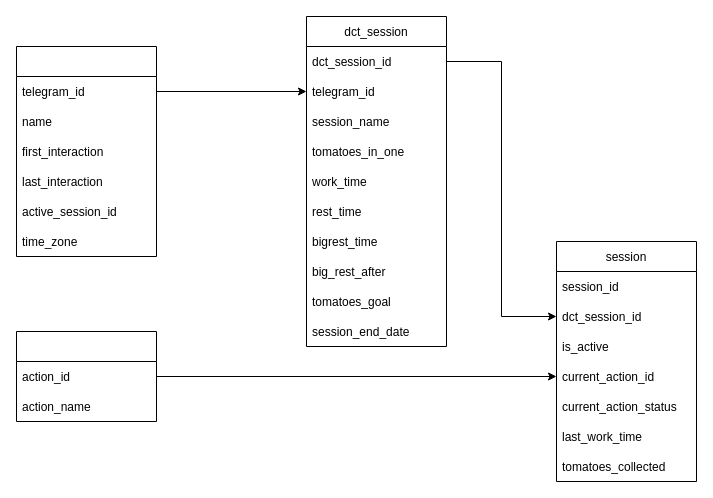
Image size: 713x498. Some labels were removed from this diagram. Each missing label, with the box of its shape:
dct_action: (16, 330, 156, 422)
people: (16, 46, 156, 256)
